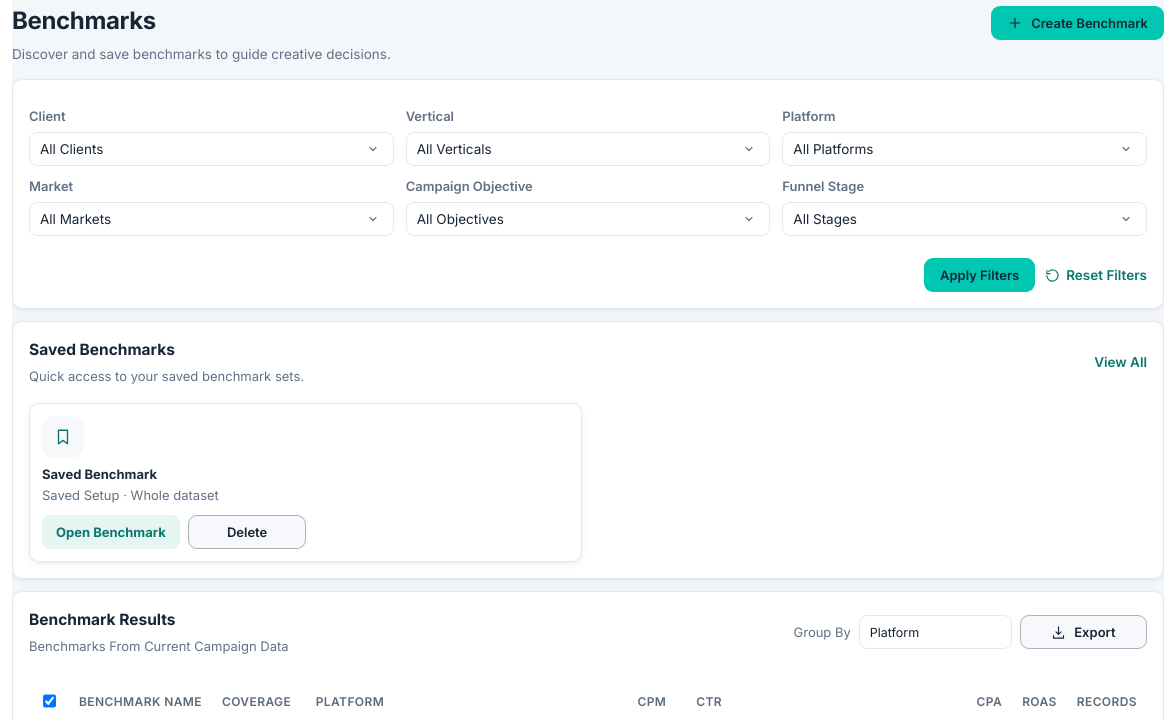
Scenario: BenchmarksPage › deletes a saved benchmark and keeps it deleted
Click the button with aria-label "Delete benchmark Saved Benchmark" at (247, 532), box [188,515,306,549]
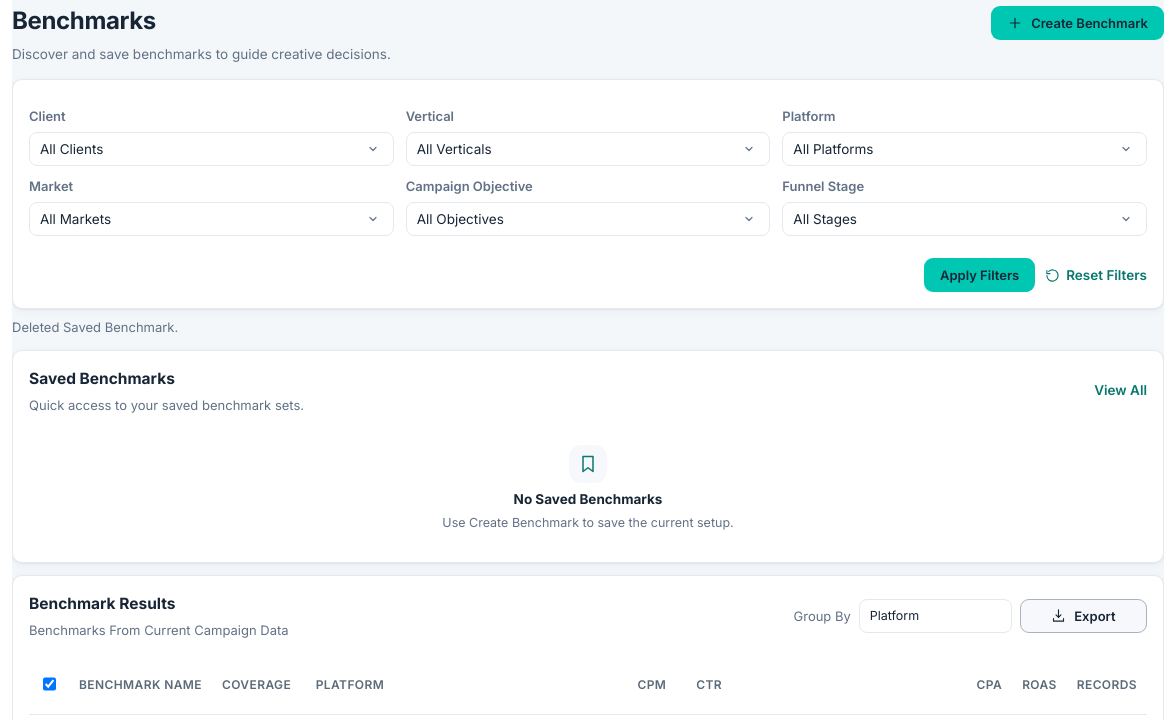
Result: the text "Deleted Saved Benchmark." is shown at [12,319,178,335]
Result: the text "No Saved Benchmarks" is shown at [514,489,662,510]
